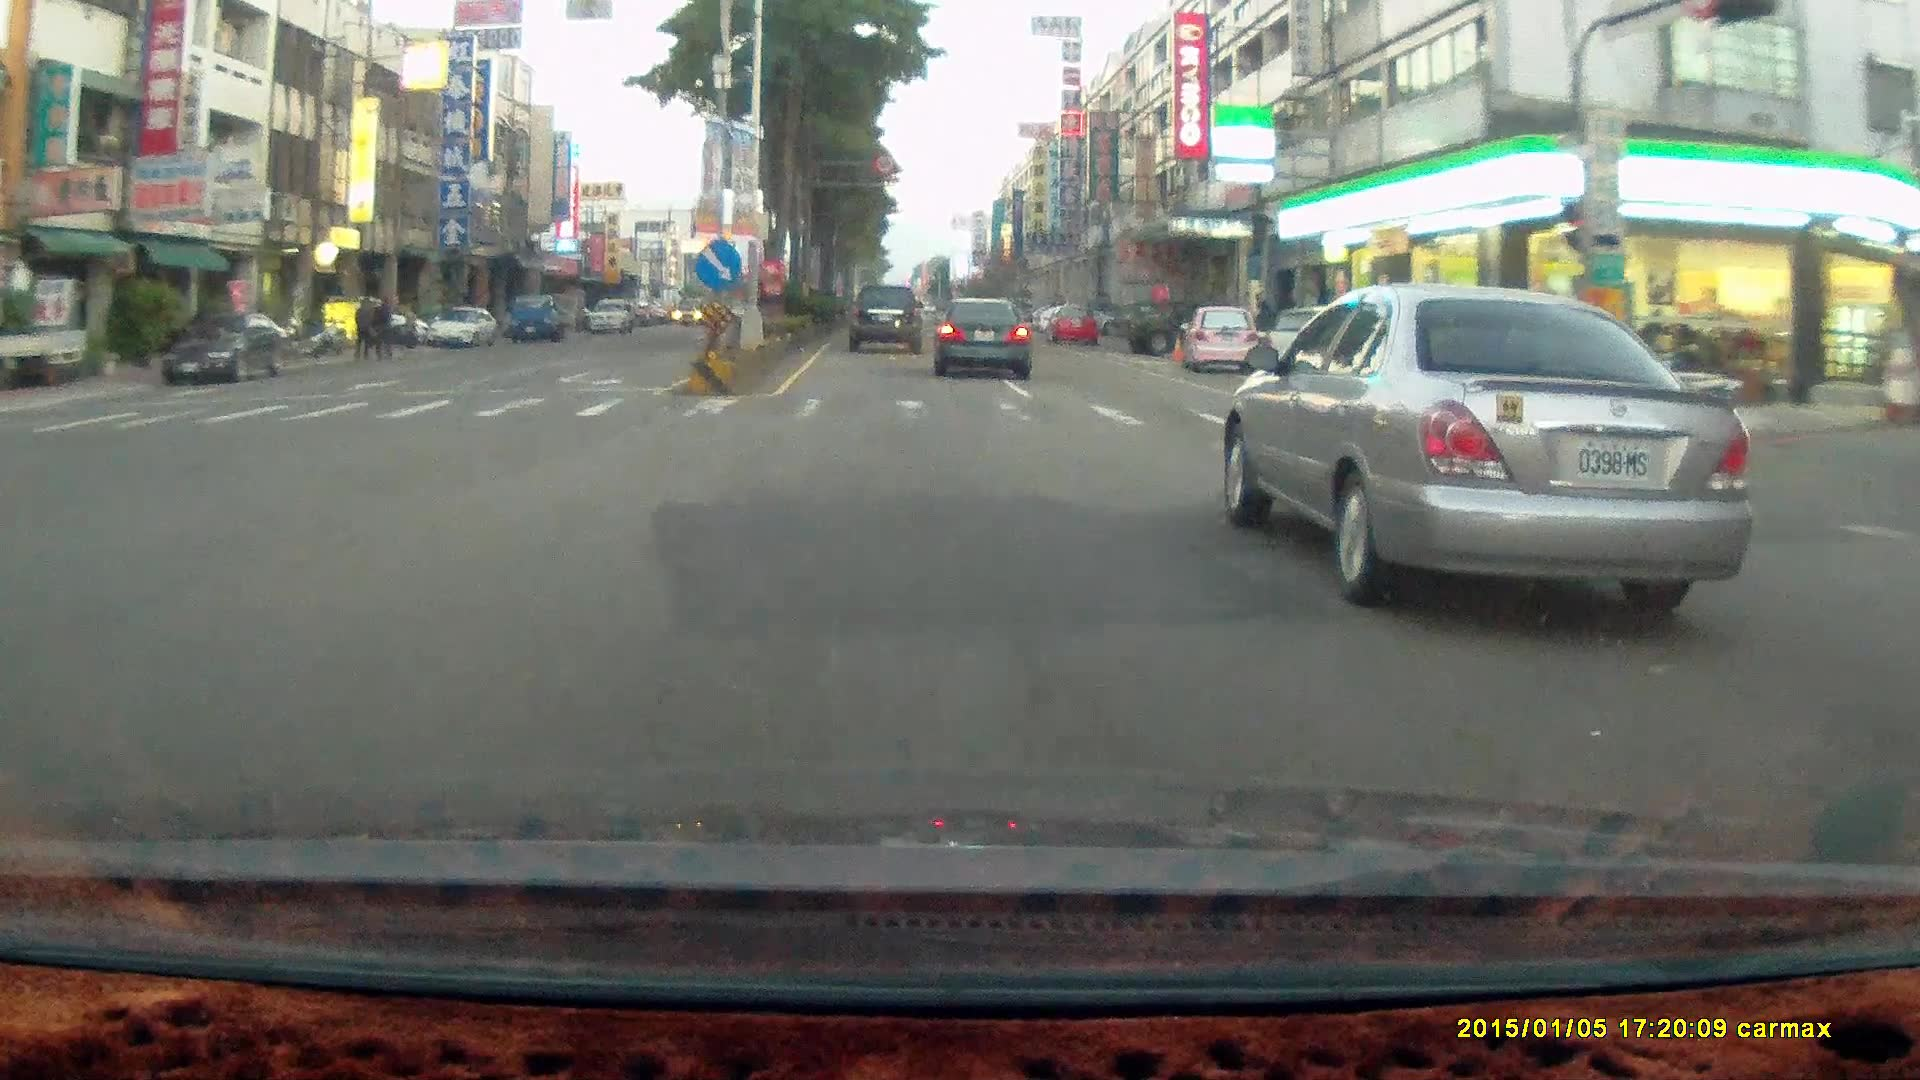pedestrian: (366, 292, 395, 358), (351, 294, 376, 361), (369, 296, 394, 362), (350, 293, 371, 359)
vehicle: (1227, 286, 1756, 626), (1375, 308, 1533, 423), (162, 313, 287, 386), (163, 309, 291, 379), (1, 286, 81, 390), (935, 299, 1033, 378), (933, 294, 1028, 375), (1182, 307, 1264, 378), (851, 283, 929, 353), (1177, 303, 1259, 369), (844, 282, 921, 352), (0, 323, 84, 387), (1121, 295, 1204, 352), (510, 294, 578, 344), (426, 304, 498, 350), (425, 303, 495, 345), (508, 291, 564, 341), (1046, 301, 1101, 350), (1043, 299, 1092, 341), (588, 294, 634, 331)
